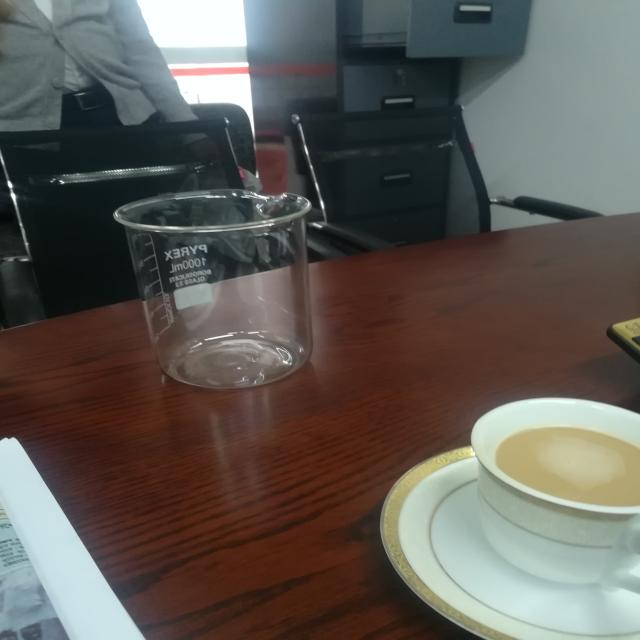Beaker: (97, 147, 353, 403)
